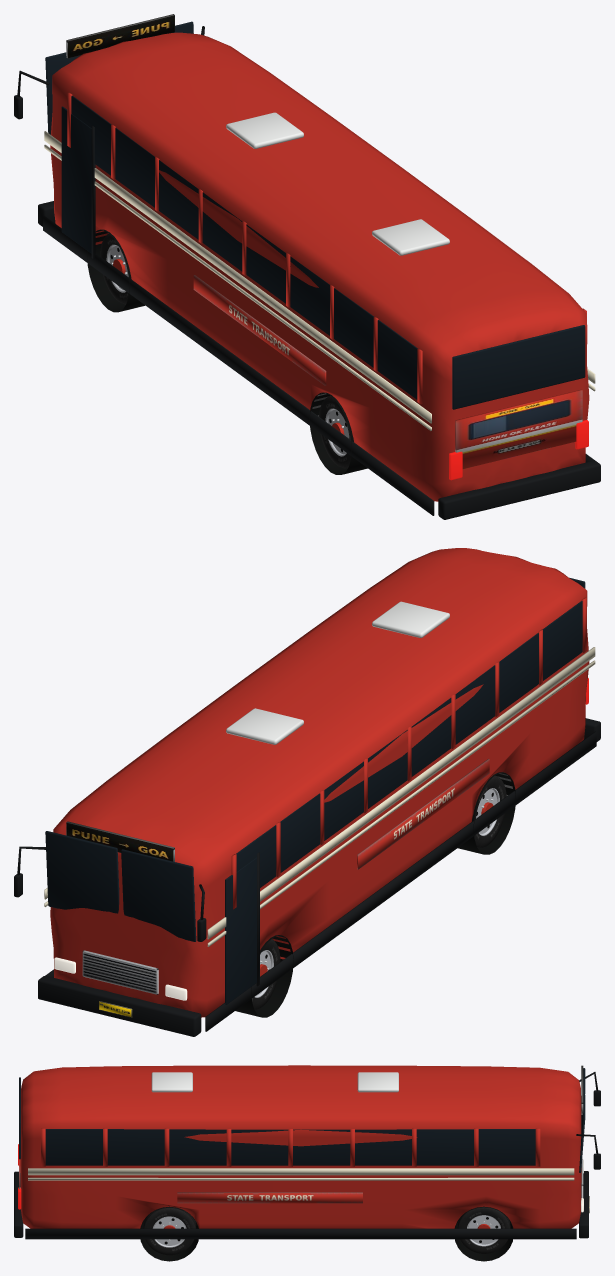
The model's file is bus.glb.
3 renders of one model, top to bottom at view 1: azimuth 30°, elevation 25°; view 2: azimuth 150°, elevation 25°; view 3: azimuth 270°, elevation 25°, orthographic. The views are drawn at different scales.
Parts seen in each view (by area): view 1: bus_BusPaint, bus_Parts, bus_Glass, bus_Tyre, bus_Lamps; view 2: bus_BusPaint, bus_Parts, bus_Glass, bus_Tyre, bus_Lamps; view 3: bus_BusPaint, bus_Parts, bus_Glass, bus_Tyre.
Boxes of the visible parts, x1=… form: bus_BusPaint: x1=50, y1=32, x2=589, y2=501; bus_Parts: x1=14, y1=14, x2=600, y2=519; bus_Glass: x1=45, y1=21, x2=585, y2=409; bus_Tyre: x1=100, y1=233, x2=351, y2=468; bus_Lamps: x1=449, y1=420, x2=588, y2=480; bus_BusPaint: x1=50, y1=548, x2=589, y2=1017; bus_Parts: x1=14, y1=601, x2=600, y2=1036; bus_Glass: x1=45, y1=577, x2=585, y2=1004; bus_Tyre: x1=252, y1=775, x2=506, y2=1009; bus_Lamps: x1=54, y1=678, x2=588, y2=1000; bus_BusPaint: x1=20, y1=1065, x2=581, y2=1228; bus_Parts: x1=14, y1=1065, x2=600, y2=1261; bus_Glass: x1=19, y1=1068, x2=585, y2=1172; bus_Tyre: x1=143, y1=1207, x2=510, y2=1255.
Size of the model in its own units: 2.98 by 3.27 by 11.39.
5 materials, 3 textured.
